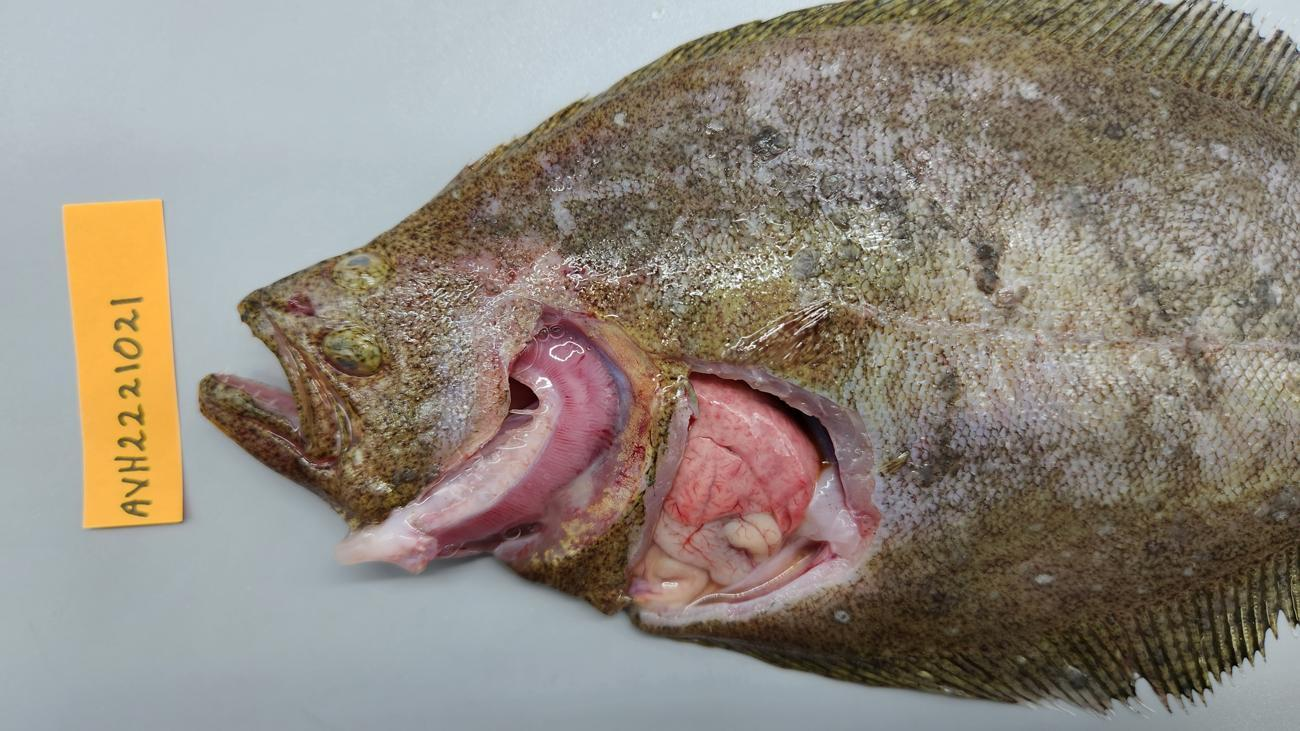VILIC: (667, 474, 812, 532)
VILII: (671, 380, 811, 500)
